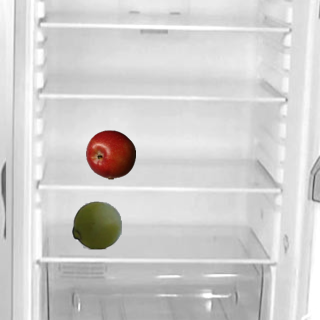Apple Braeburn: (85, 129, 135, 179)
Grape White 4: (71, 199, 121, 249)
